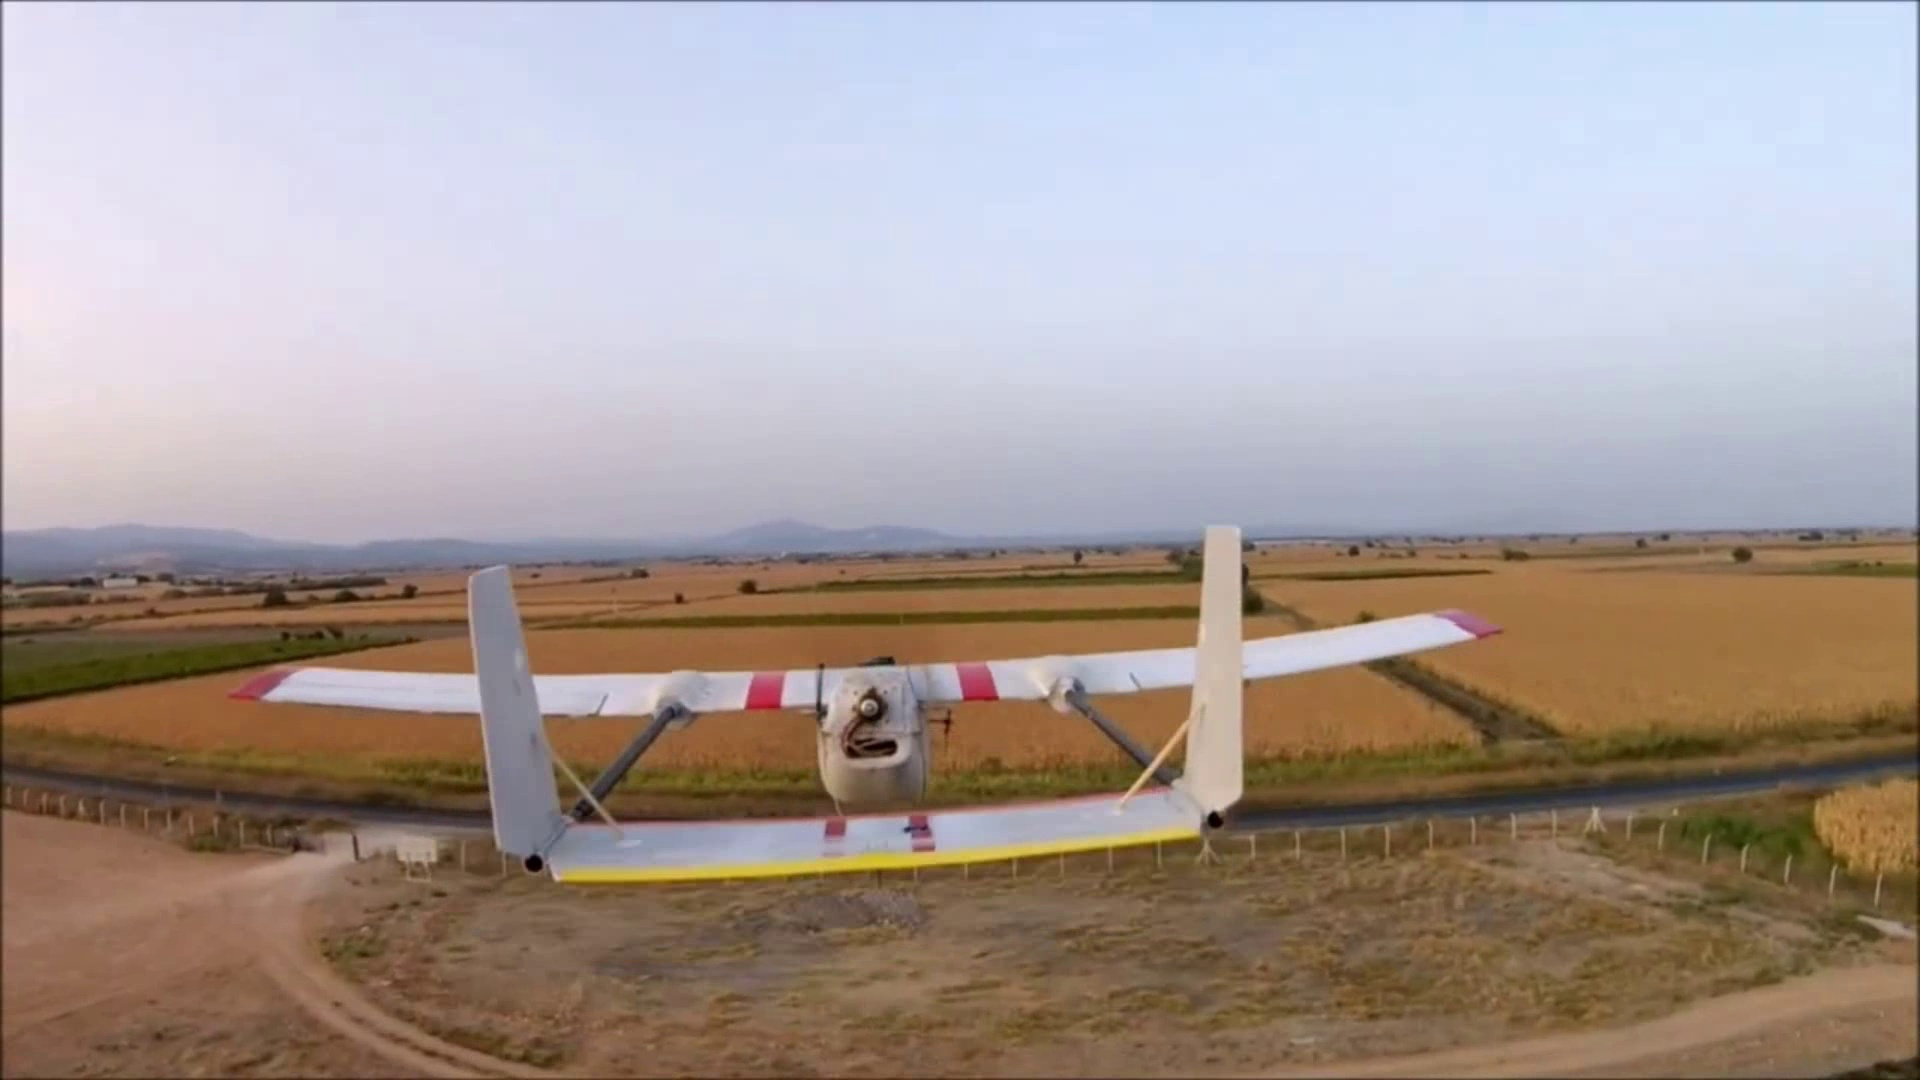airplane: (225, 532, 1502, 879)
